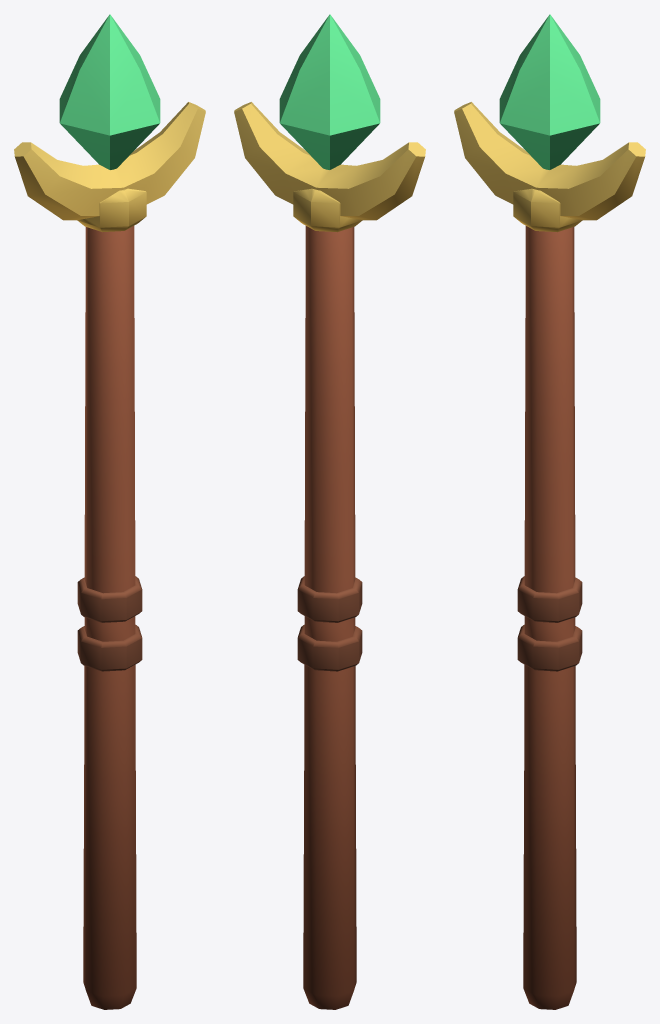
Rendered from staff_emerald.glb.
3 views of the same model, side by side, from view 1: azimuth 30°, elevation 25°; view 2: azimuth 150°, elevation 25°; view 3: azimuth 330°, elevation 25° (orthographic).
Parts seen in each view (by area): view 1: Item; view 2: Item; view 3: Item.
Boxes of the visible parts, x1,y1,x2,y2 form: Item: (14,14,205,1009); Item: (234,14,425,1009); Item: (454,14,645,1009).
Bounding box in the file's own units: 0.4928 × 2.44 × 0.2252.
3 materials, 3 textured.
